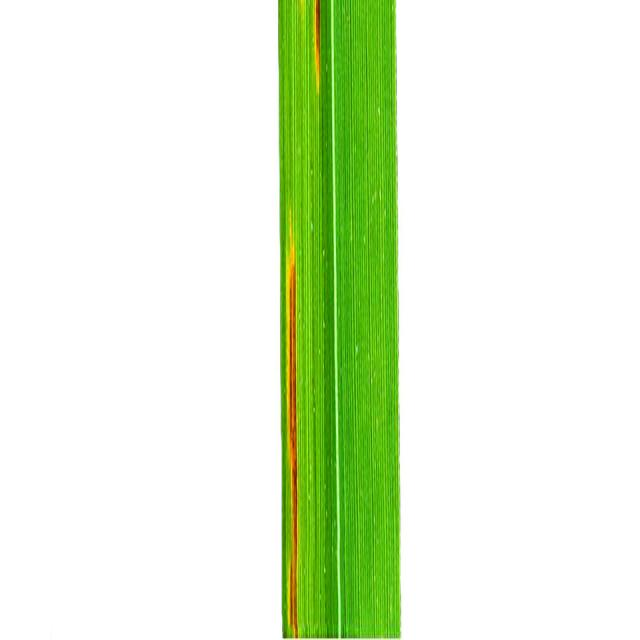NBS: (285, 199, 299, 638), (313, 0, 320, 103), (301, 0, 304, 7)
